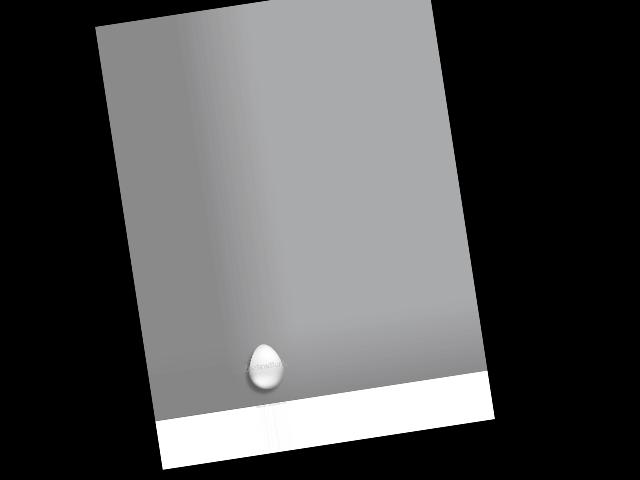egg: (245, 341, 286, 391)
